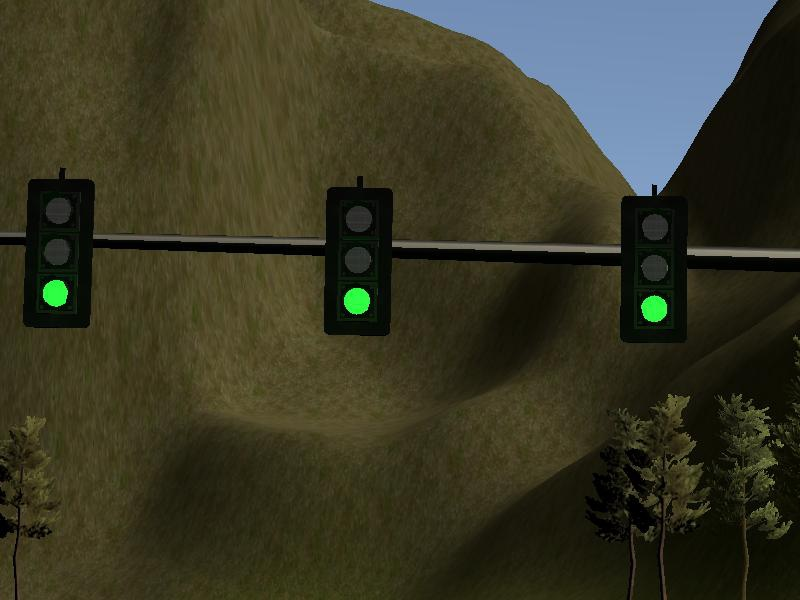green_light: (623, 201, 686, 339), (329, 192, 389, 334), (30, 185, 87, 324)
